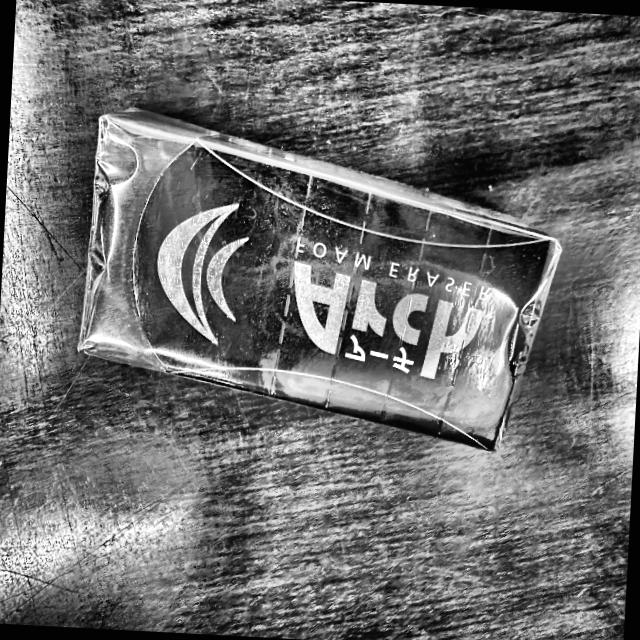eraser: (42, 79, 604, 472)
